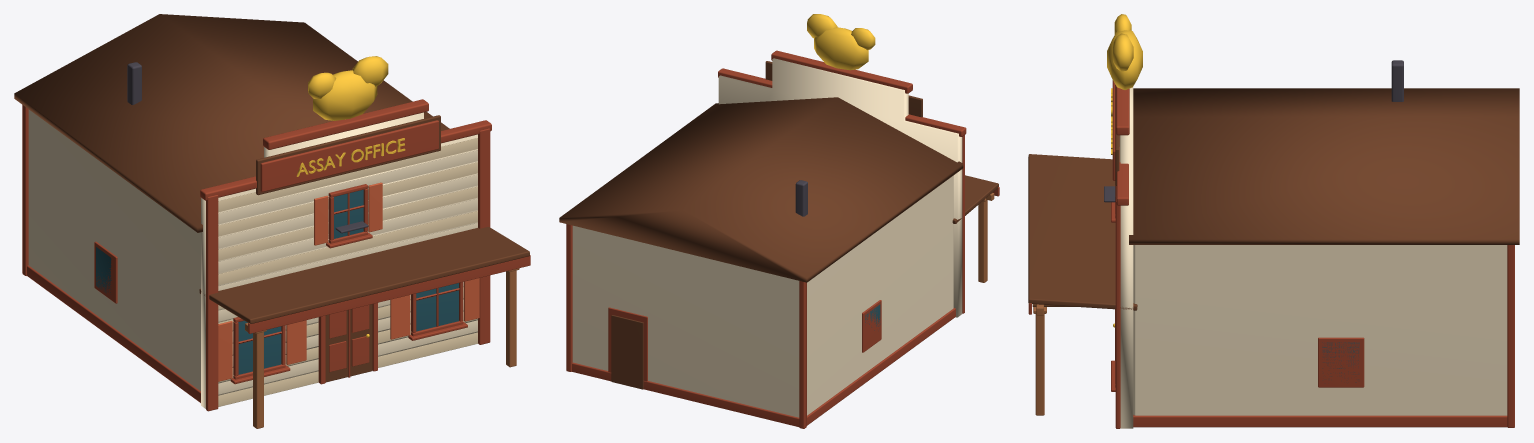
Rendered from gulch_assay.glb.
3 renders of one model, left to right at view 1: azimuth 30°, elevation 25°; view 2: azimuth 150°, elevation 25°; view 3: azimuth 270°, elevation 25°, orthographic. The views are drawn at different scales.
Visible parts, largest first — view 1: Assay; view 2: Assay; view 3: Assay.
Part boxes in pixels (left/top/right/bottom): Assay: left=14, top=14, right=530, bottom=428; Assay: left=559, top=14, right=999, bottom=428; Assay: left=1028, top=14, right=1519, bottom=428.
Bounding box in the file's own units: 8.5 × 8.74 × 11.7.
